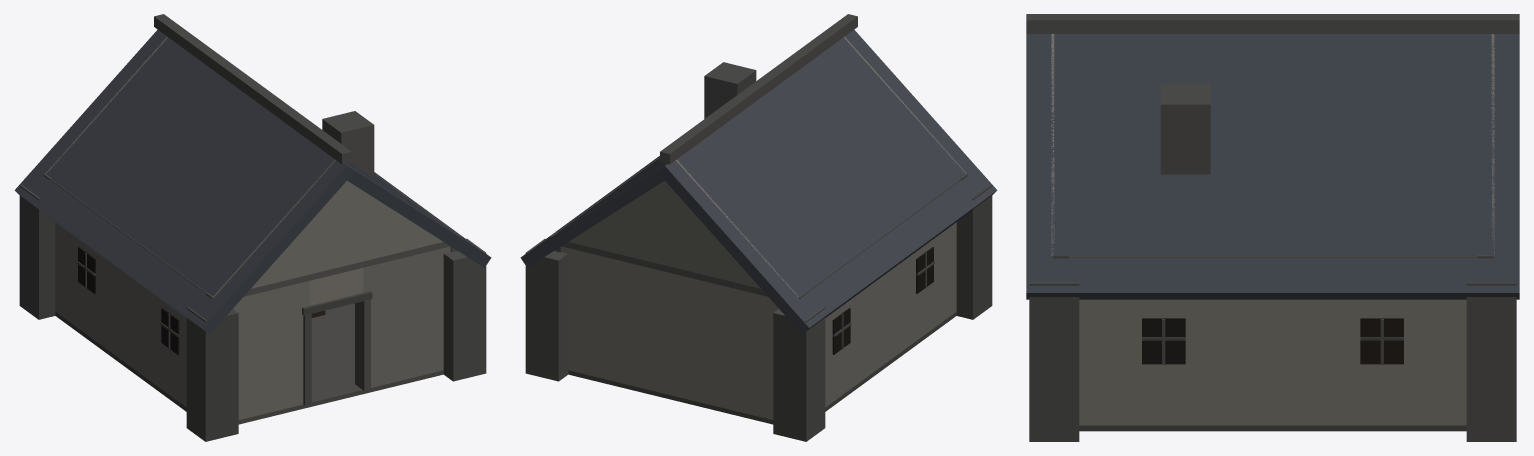
The model's file is walk_freehold_house.glb.
The picture shows the model from 3 angles, left to right: view 1: azimuth 30°, elevation 25°; view 2: azimuth 150°, elevation 25°; view 3: azimuth 270°, elevation 25°; orthographic projection. The views are drawn at different scales.
Parts seen in each view (by area): view 1: walk_freehold_house_roof, walk_freehold_house; view 2: walk_freehold_house_roof, walk_freehold_house; view 3: walk_freehold_house_roof, walk_freehold_house.
Part boxes in pixels (<box>): walk_freehold_house_roof: <box>14,14,491,334</box>; walk_freehold_house: <box>19,173,486,441</box>; walk_freehold_house_roof: <box>520,14,997,334</box>; walk_freehold_house: <box>525,157,992,441</box>; walk_freehold_house_roof: <box>1026,14,1519,299</box>; walk_freehold_house: <box>1029,255,1516,441</box>.
Size of what is drawn, in the model's own units: 7 by 5.92 by 7.9.
Materials: 2 (2 with a texture image).
